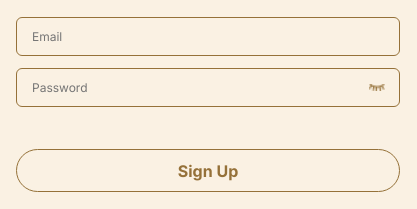
Test case: SignupForm › shows error on failure
Type "test@example.com" into the field with placeholder "Email" at (208, 36), box [16,16,400,56]
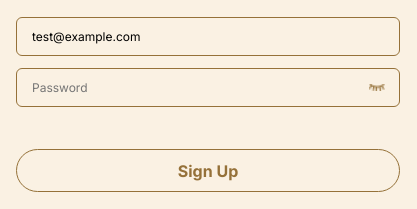
Type "password123" into the password field with placeholder "Password" at (208, 87), box [16,68,400,106]
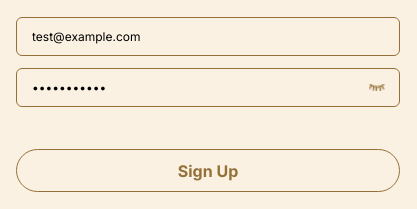
Submit the form from the button "Sign Up", box [16,149,400,192]
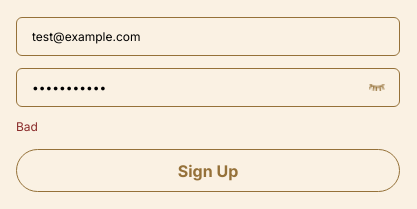
Expected: the text "Bad" is shown, [16,121,38,133]
